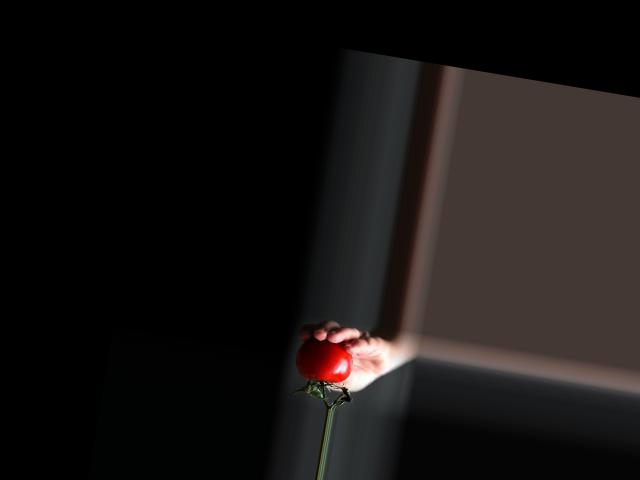tomato: (292, 334, 356, 387)
